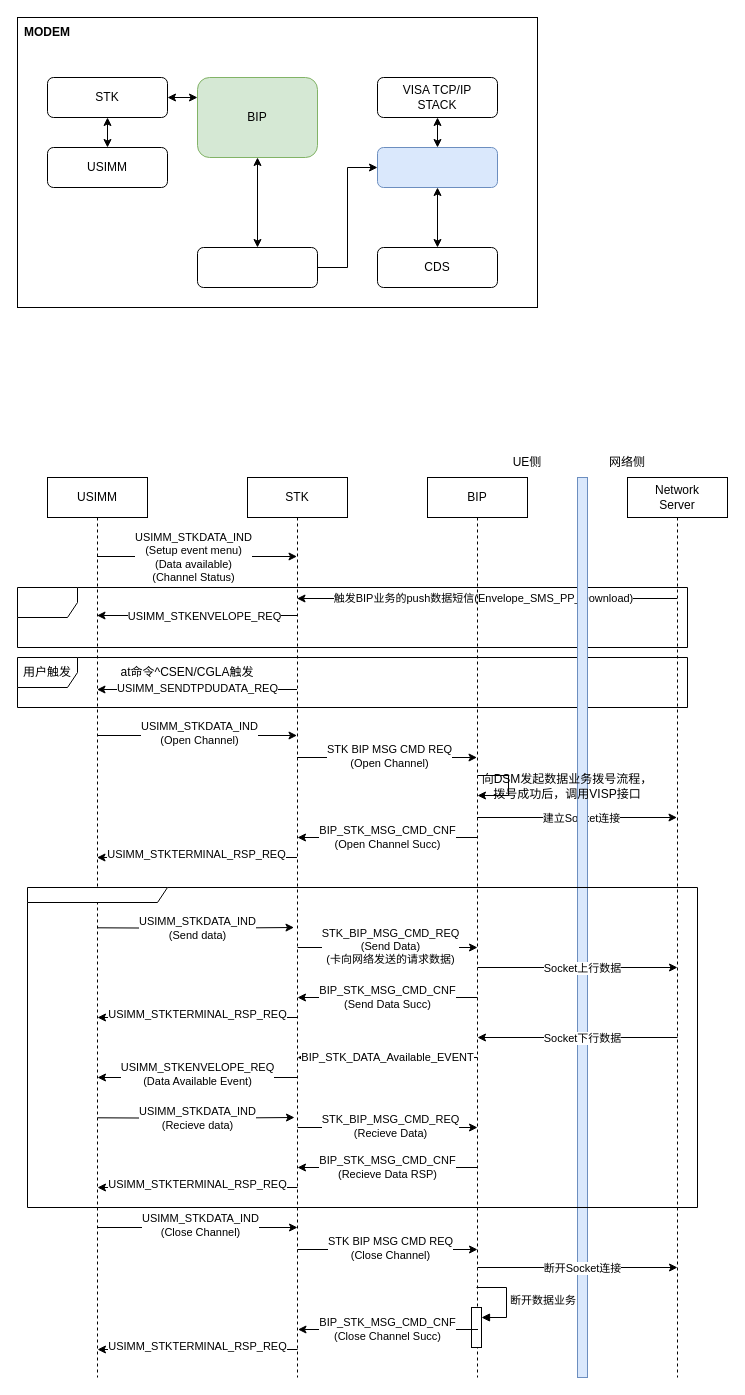
Image size: 745x1395. Some labels were removed from this diagram. The centre of each missing label's shape, as x and y in pixels:
BIP NIC: (437,167)
DSM: (257,267)
多包数据时，重复该流程: (362,1047)
网络触发: (352,617)
